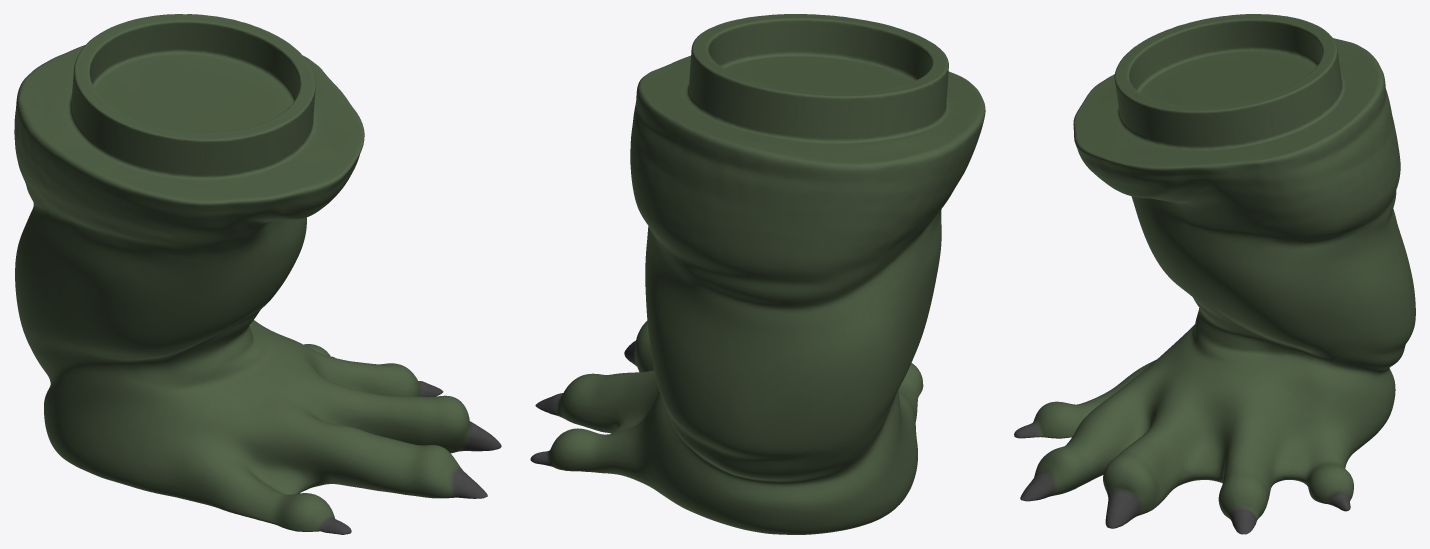
File: Patte_Crocodile_lft.glb
3 views of the same model, side by side, from view 1: azimuth 30°, elevation 25°; view 2: azimuth 150°, elevation 25°; view 3: azimuth 270°, elevation 25° (orthographic). The views are drawn at different scales.
Visible parts, largest first — view 1: Patte_Crocodile_lft; view 2: Patte_Crocodile_lft; view 3: Patte_Crocodile_lft.
Boxes of the visible parts, x1,y1,x2,y2 form: Patte_Crocodile_lft: (14,14,501,534); Patte_Crocodile_lft: (530,14,985,534); Patte_Crocodile_lft: (1014,14,1415,534).
Bounding box in the file's own units: 2.35 × 2.25 × 2.22.
